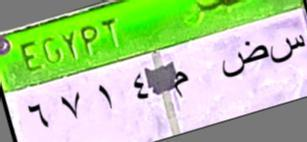1: (95, 78, 116, 118)
4: (127, 70, 153, 108)
6: (22, 97, 53, 135)
7: (56, 85, 88, 130)
daad: (217, 41, 268, 78)
meem: (169, 66, 197, 108)
seen: (271, 28, 306, 70)
